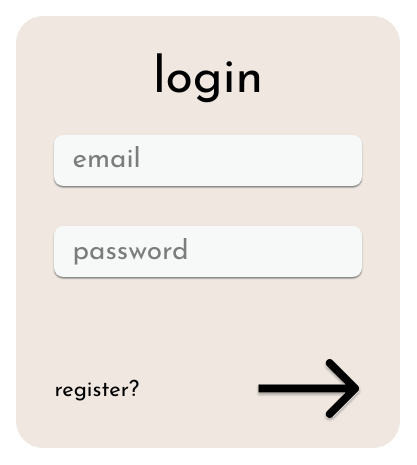
Test: Login › shows connection error when fetch throws
In the field with placeholder "email": (208, 160) x1=54 y1=134 x2=362 y2=186, type "alice@example.com"
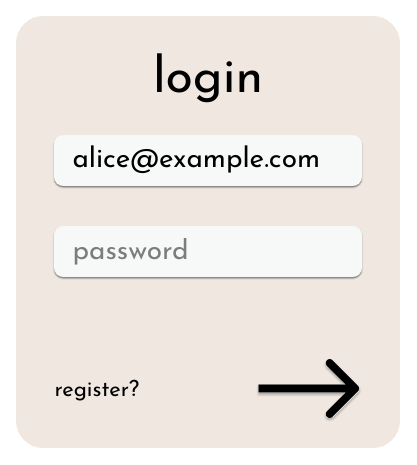
In the password field with placeholder "password": (208, 252) x1=54 y1=226 x2=362 y2=277, type "password"
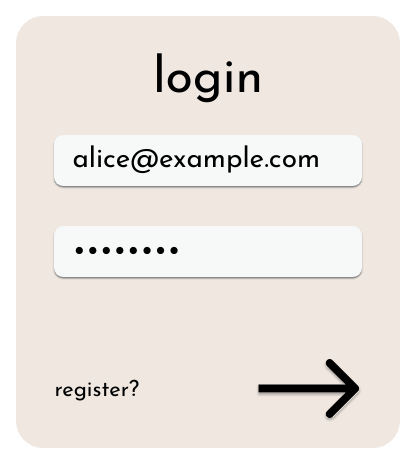
Click the button named "submit": (309, 390) x1=256 y1=358 x2=362 y2=422
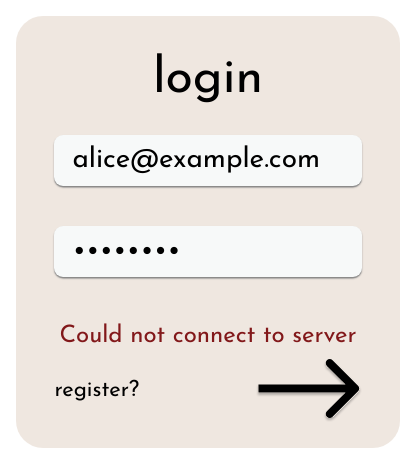
Result: the text "Could not connect to server" is shown at x1=59 y1=318 x2=357 y2=350
